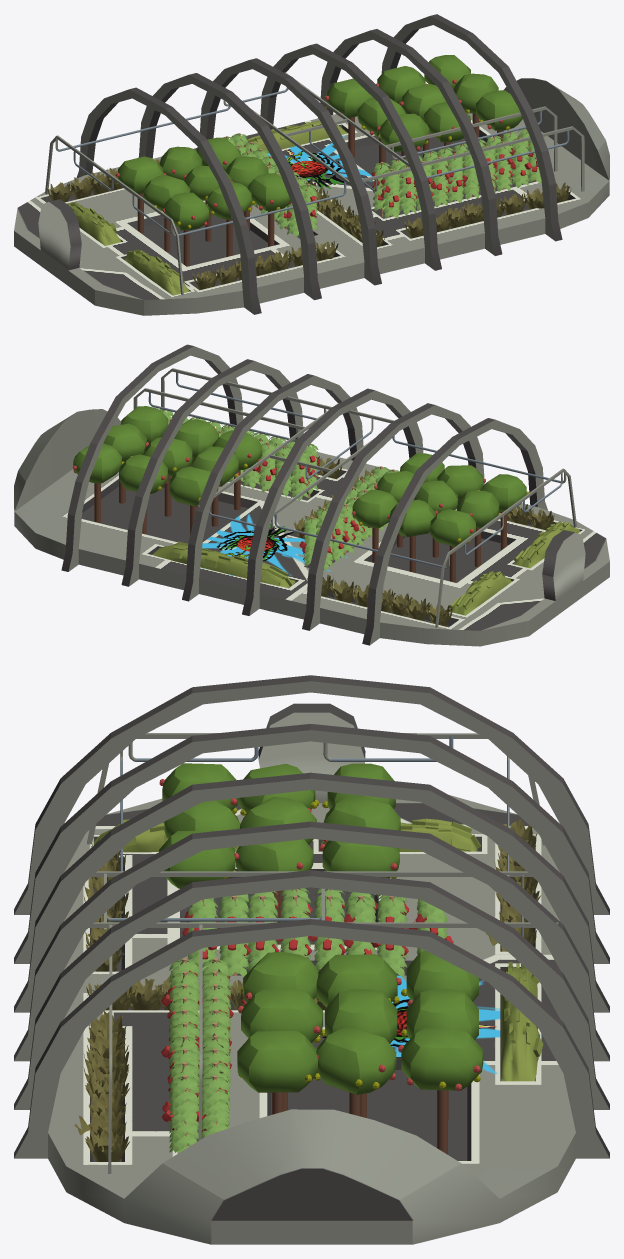
File: food no glass.fbx
3 renders of one model, top to bottom at view 1: azimuth 30°, elevation 25°; view 2: azimuth 150°, elevation 25°; view 3: azimuth 270°, elevation 25°, orthographic. The views are drawn at different scales.
Visible parts, largest first — view 1: resourbuildes_and:resourbuildes_and:resourbuildes_and:resour; view 2: resourbuildes_and:resourbuildes_and:resourbuildes_and:resour; view 3: resourbuildes_and:resourbuildes_and:resourbuildes_and:resour.
Boxes of the visible parts, <box> form: resourbuildes_and:resourbuildes_and:resourbuildes_and:resour: <box>14,14,609,315</box>; resourbuildes_and:resourbuildes_and:resourbuildes_and:resour: <box>14,344,609,646</box>; resourbuildes_and:resourbuildes_and:resourbuildes_and:resour: <box>14,675,609,1244</box>.
Bounding box in the file's own units: 55.4 × 14.21 × 32.82.
